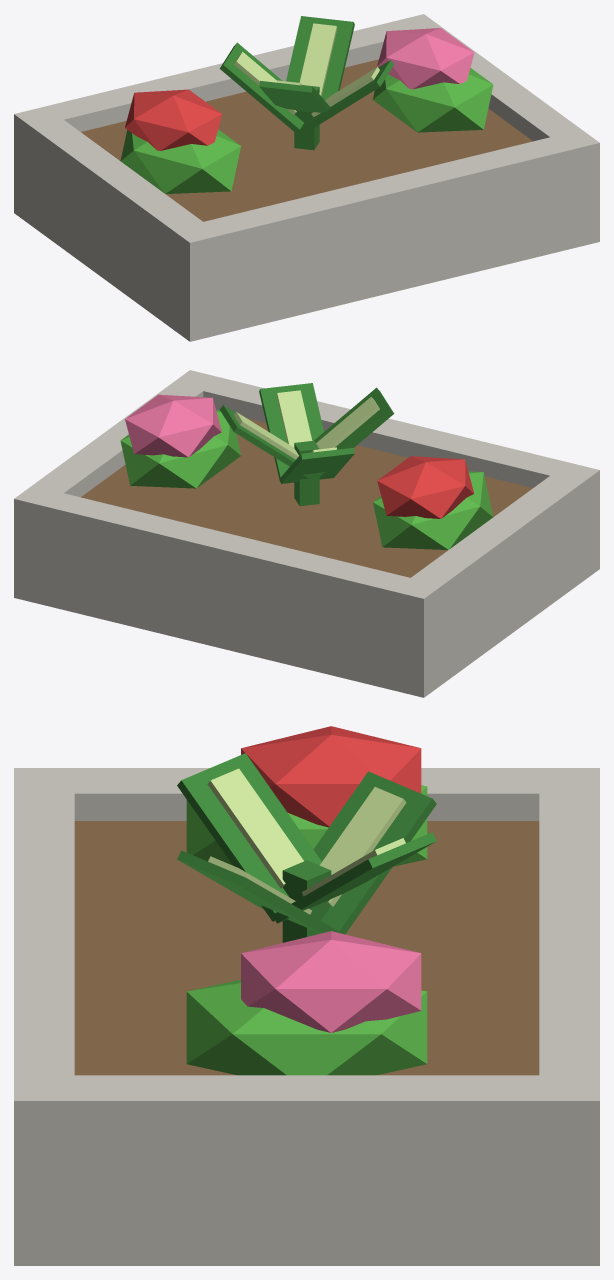
File: jardineira.glb
3 views of the same model, one above another, from view 1: azimuth 30°, elevation 25°; view 2: azimuth 150°, elevation 25°; view 3: azimuth 270°, elevation 25° (orthographic). The views are drawn at different scales.
Visible parts, largest first — view 1: corpo; view 2: corpo; view 3: corpo.
Boxes of the visible parts, box(x1,y1,x2,y2) form: corpo: box(14, 14, 599, 341); corpo: box(14, 370, 599, 697); corpo: box(14, 726, 599, 1265).
Size of the model in its own units: 0.39 by 0.1601 by 0.29.
